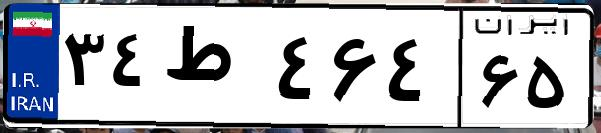3: (57, 26, 110, 100)
4: (270, 28, 330, 110), (385, 28, 445, 110), (110, 28, 158, 98)
5: (525, 38, 570, 115)
6: (330, 28, 385, 110), (475, 38, 525, 113)
ط: (158, 20, 270, 120)
